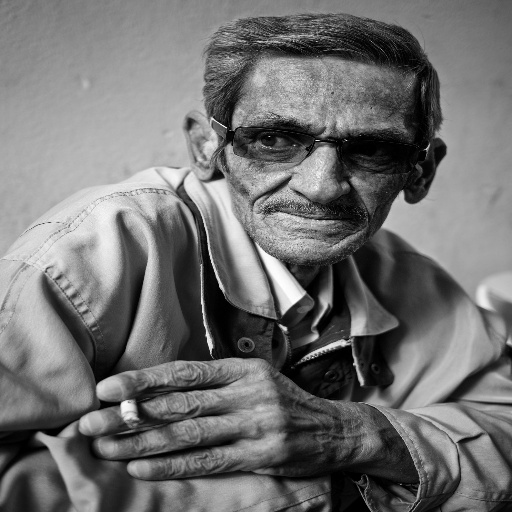hand: (77, 357, 365, 481)
